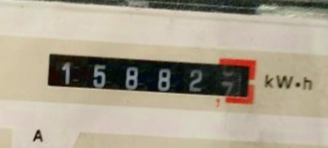1: (59, 56, 74, 85)
2: (186, 65, 205, 93)
5: (90, 60, 109, 91)
7: (219, 77, 233, 95)
8: (122, 62, 140, 91), (155, 63, 173, 92)
screen: (34, 35, 264, 112)
